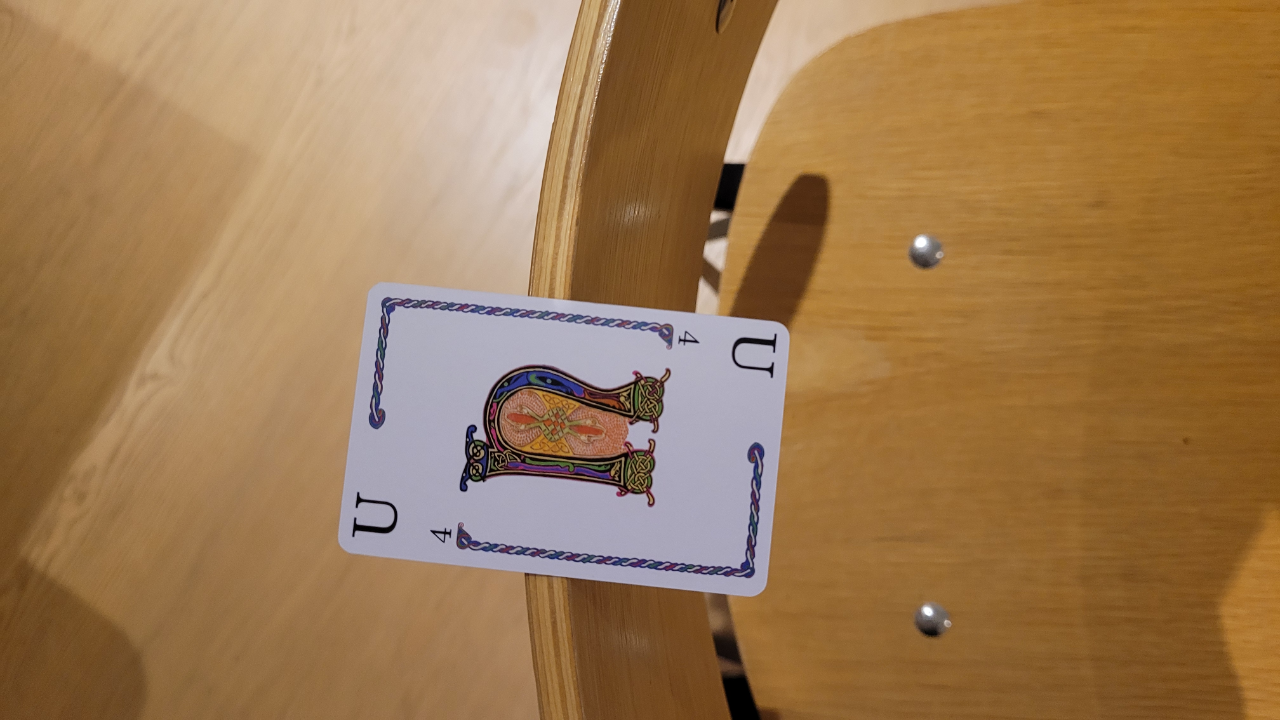quiddler_card: (331, 270, 795, 617)
